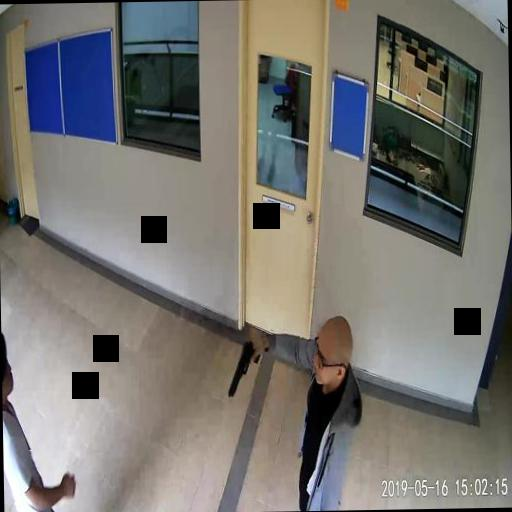Handgun: (226, 334, 260, 394)
